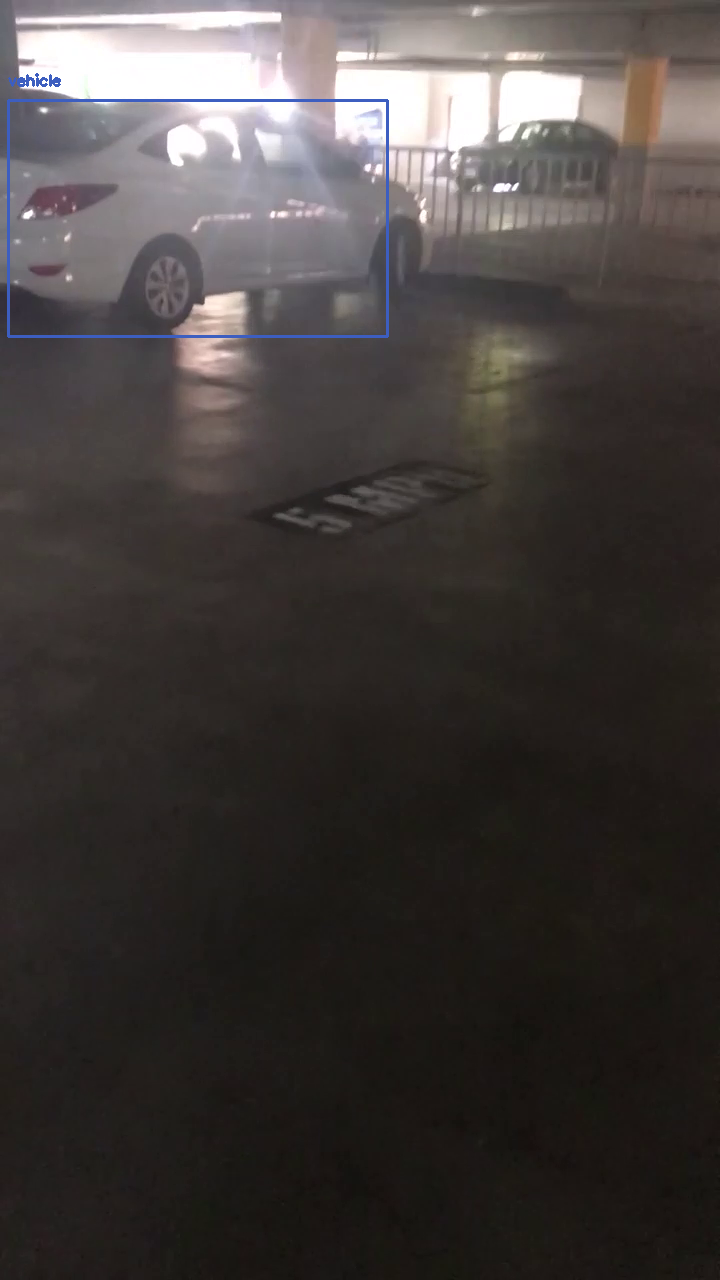vehicle: (8, 100, 387, 336)
